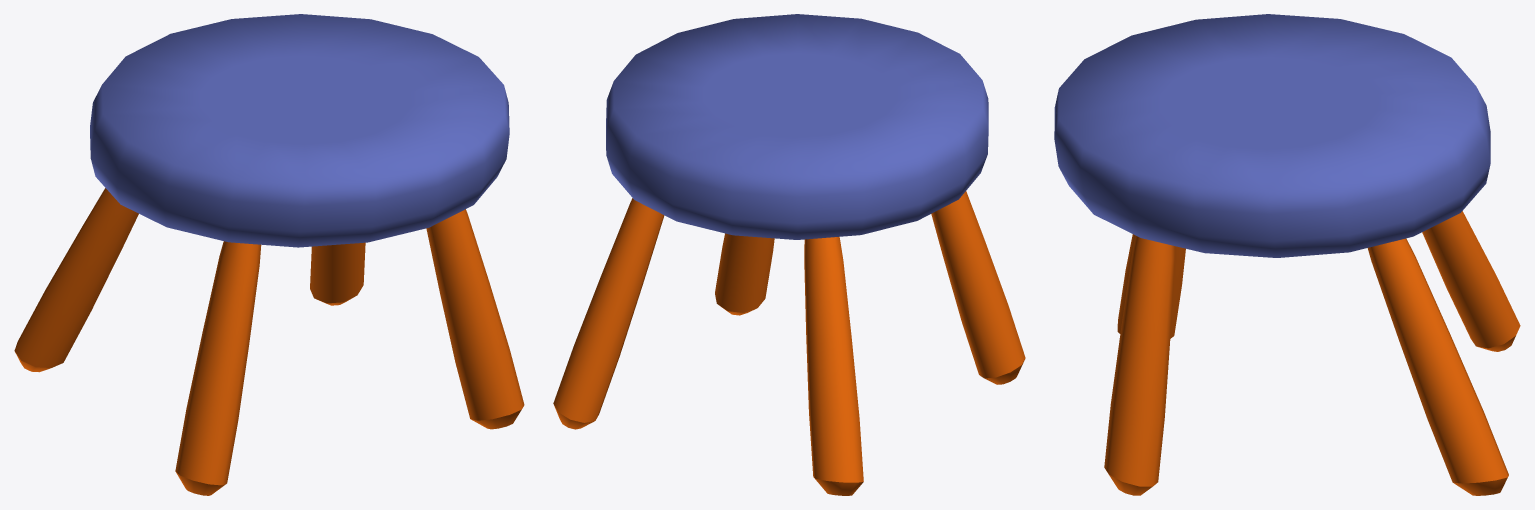
File: kidschair_blue.FBX
3 views of the same model, side by side, from view 1: azimuth 30°, elevation 25°; view 2: azimuth 150°, elevation 25°; view 3: azimuth 270°, elevation 25° (orthographic). The views are drawn at different scales.
Visible parts, largest first — view 1: Object003; view 2: Object003; view 3: Object003.
Part boxes in pixels (box(x1,y1,x2,y2)): Object003: box(14, 14, 524, 495); Object003: box(553, 14, 1025, 495); Object003: box(1054, 14, 1520, 495).
Bounding box in the file's own units: 16.16 × 13.27 × 17.28.
